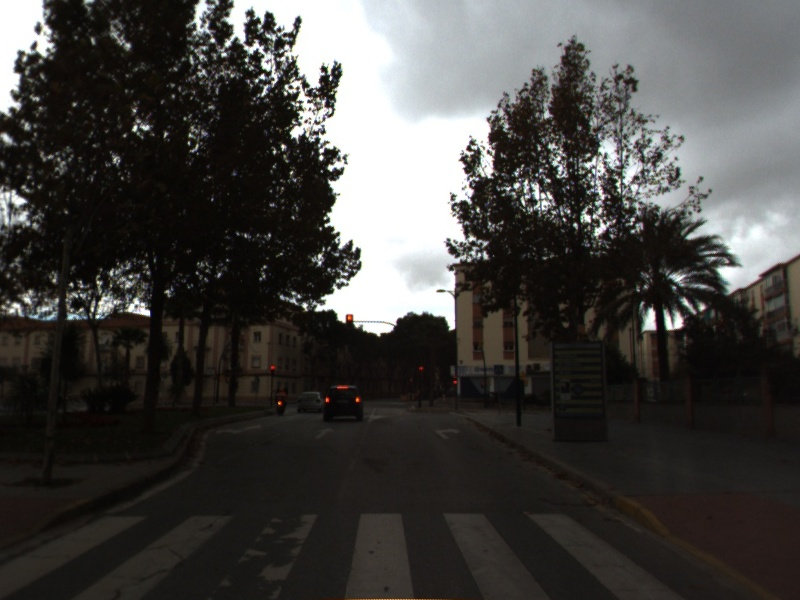RIGHT: (433, 425, 462, 441)
STRAIGHT: (312, 425, 339, 442)
STRAIGHT_LEFT: (214, 422, 265, 437)
